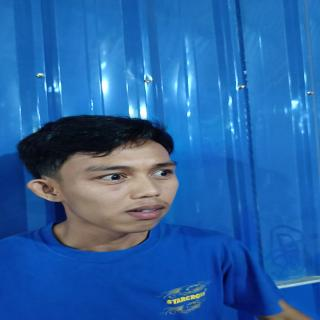Marah: (58, 140, 194, 238)
